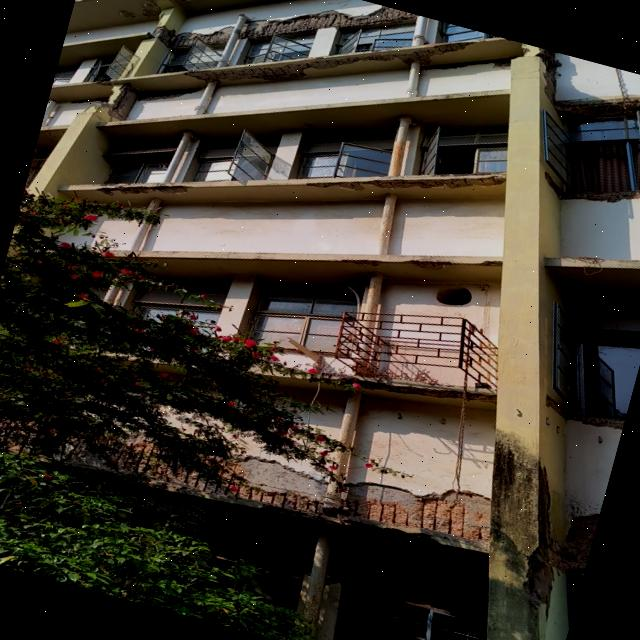peeling: (558, 513, 599, 575), (119, 0, 191, 21)
spalling: (95, 439, 489, 552), (184, 41, 469, 83), (536, 47, 640, 119), (241, 6, 415, 39), (526, 465, 559, 605), (306, 171, 504, 190), (105, 82, 194, 121), (308, 253, 500, 270), (421, 47, 524, 71), (350, 378, 462, 399), (147, 25, 233, 48), (95, 183, 188, 195), (560, 189, 640, 202), (564, 413, 624, 429), (206, 26, 229, 44), (465, 391, 495, 404), (323, 378, 347, 391), (276, 376, 312, 383)
stain_mould: (486, 429, 539, 640), (558, 513, 599, 575)
